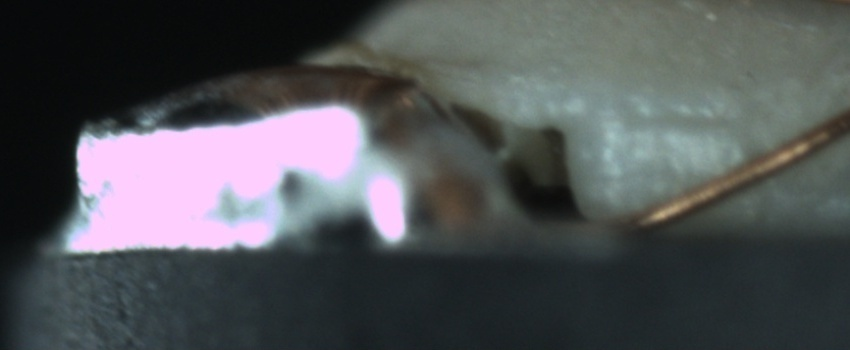DL: (605, 90, 745, 160)
